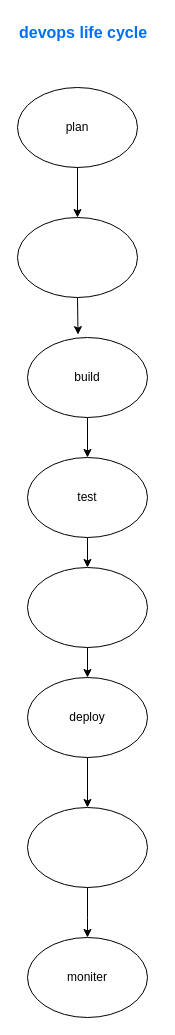
The diagram is 175 pixels wide and 1035 high, and some of its shapes have lost their labels. Here are the shapes that lost their labels. From the top down, the centre of each, then its label:
At (77,257): "develop".
At (87,607): "release".
At (87,847): "operate".
